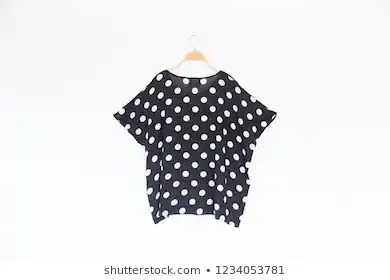C_short blouse: (111, 69, 279, 230)
